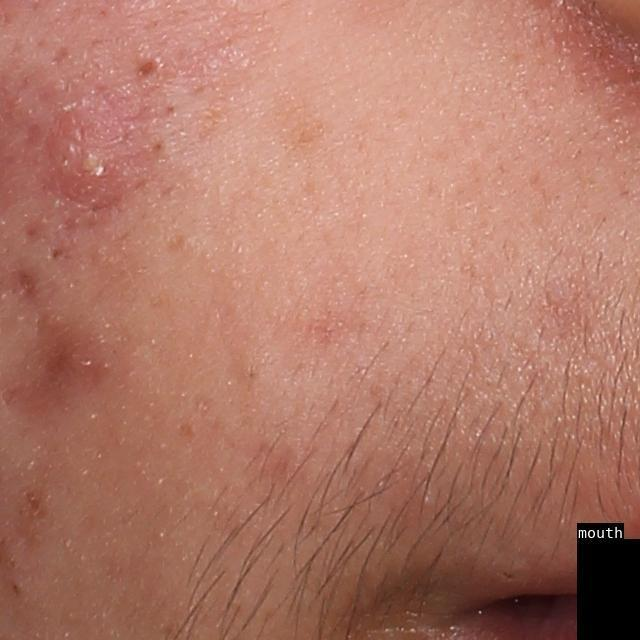comedo: (132, 45, 167, 83), (46, 238, 72, 267)
